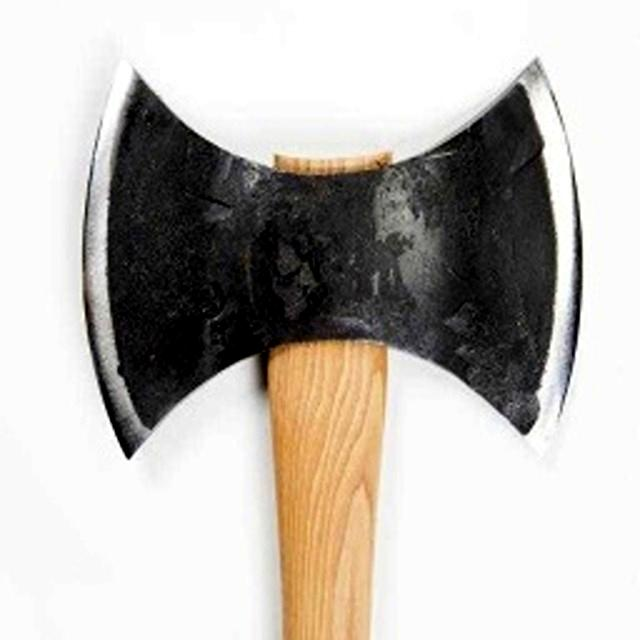ax: (70, 44, 591, 465)
